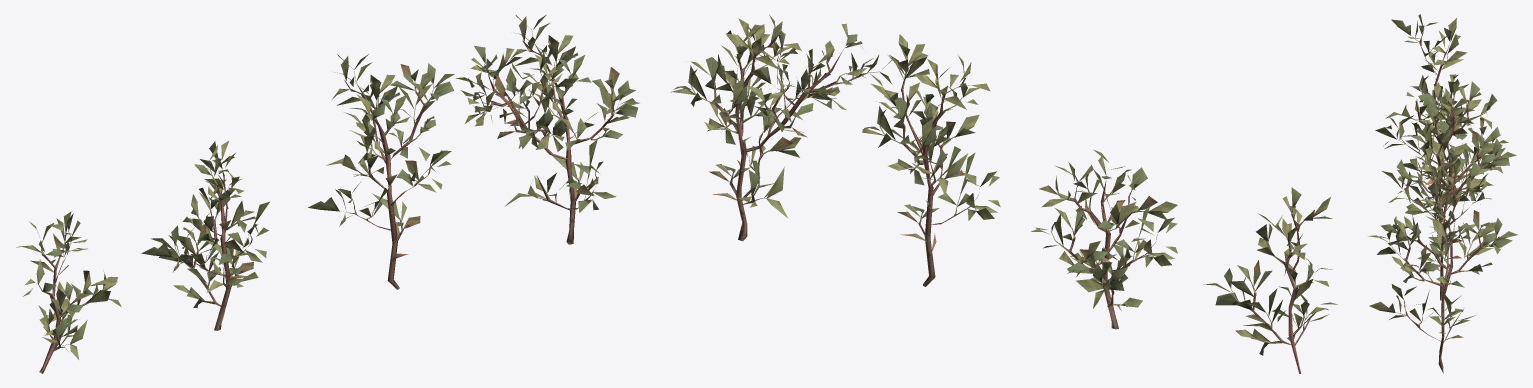
The model's file is shrub4.glb.
3 views of the same model, side by side, from view 1: azimuth 30°, elevation 25°; view 2: azimuth 150°, elevation 25°; view 3: azimuth 270°, elevation 25° (orthographic). The views are drawn at different scales.
Visible parts, largest first — view 1: shrub_04; view 2: shrub_04; view 3: shrub_04.
Boxes of the visible parts, <box> form: shrub_04: <box>16,14,639,373</box>; shrub_04: <box>670,14,1337,373</box>; shrub_04: <box>1368,14,1517,373</box>.
Bounding box in the file's own units: 0.5837 × 0.2192 × 0.1461.
Materials: 1 (1 with a texture image).
